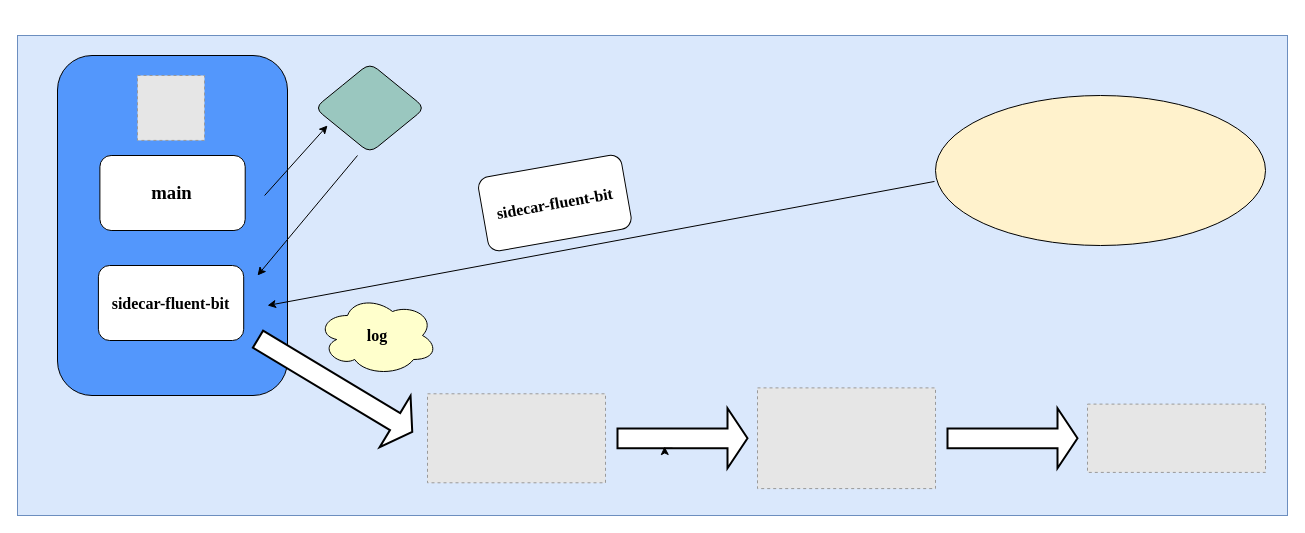
This 1305x533 diagram has some shape labels left out. Grey dashed boxes stand in for pictures. The centre of each missing label's shape, as x and y in pixels:
"log-volume" belongs at point 369,107.
"logging-sidecar-injector" belongs at point 1100,170.
